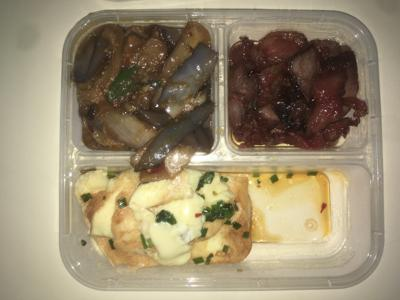df: (68, 168, 365, 271)
sqz: (77, 15, 218, 170)
